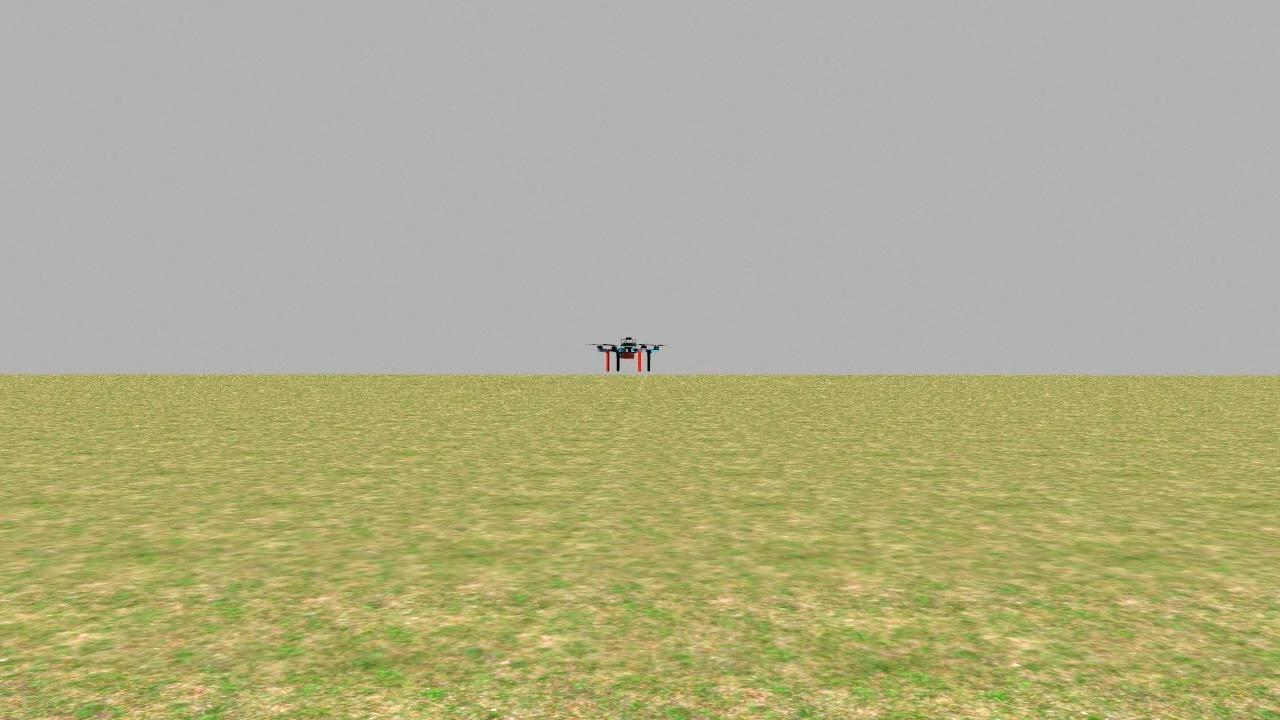UAV: (588, 326, 671, 378)
